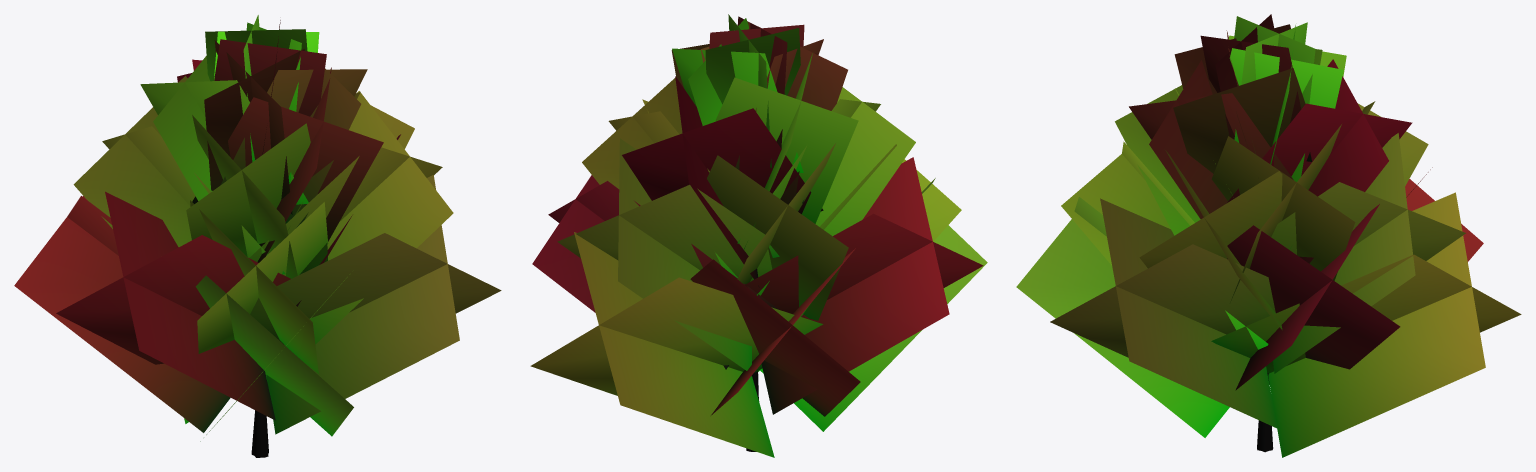
Rendered from Tree_2_2.fbx.
3 renders of one model, left to right at view 1: azimuth 30°, elevation 25°; view 2: azimuth 150°, elevation 25°; view 3: azimuth 270°, elevation 25°, orthographic.
Visible parts, largest first — view 1: Tree_2_2; view 2: Tree_2_2; view 3: Tree_2_2.
Boxes of the visible parts, x1,y1,x2,y2 form: Tree_2_2: (14,15,501,457); Tree_2_2: (530,14,987,457); Tree_2_2: (1016,14,1521,457).
Size of the model in its own units: 4151 by 4247 by 4652.
